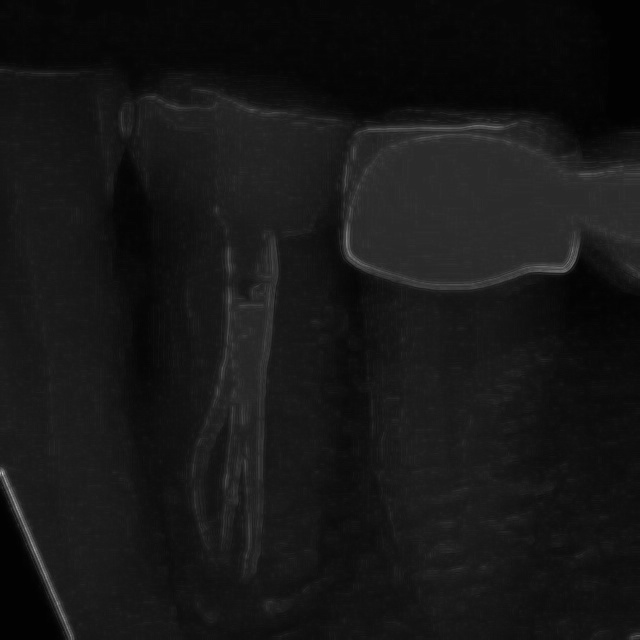Class 0- No endodontic treatment: (82, 69, 376, 633)
cavity: (324, 92, 610, 640)
